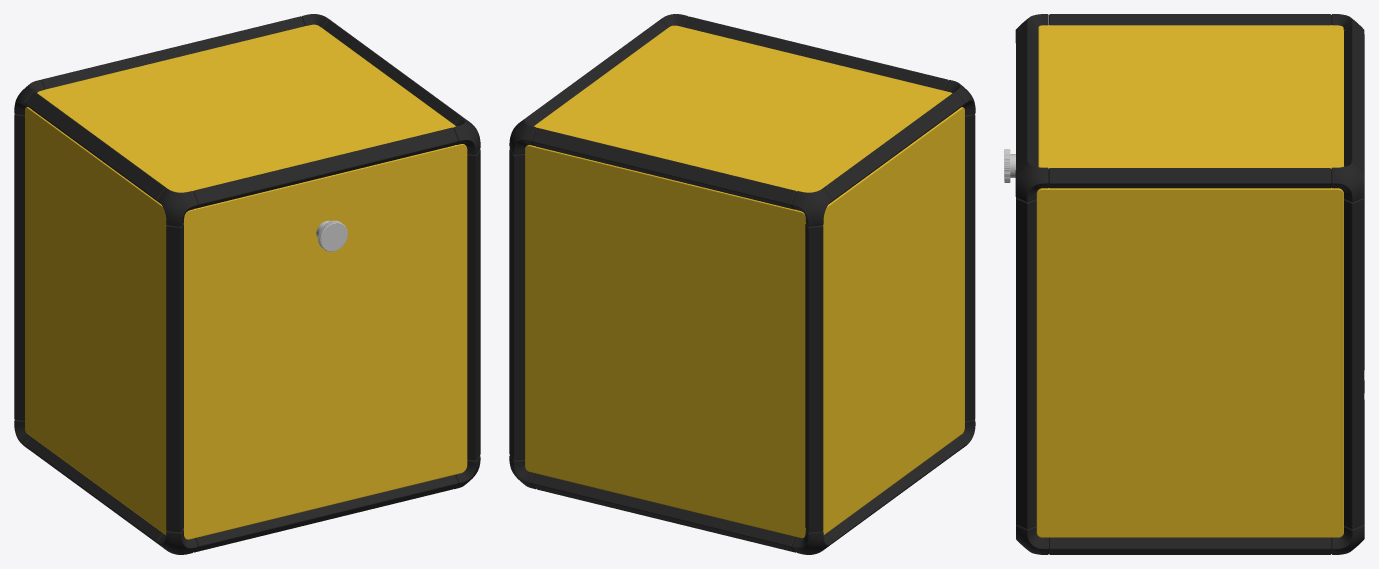
3 views of the same model, side by side, from view 1: azimuth 30°, elevation 25°; view 2: azimuth 150°, elevation 25°; view 3: azimuth 270°, elevation 25° (orthographic). The views are drawn at different scales.
Visible parts, largest first — view 1: 374x329x420; view 2: 374x329x420; view 3: 374x329x420.
Boxes of the visible parts, <box> form: 374x329x420: <box>14,14,480,554</box>; 374x329x420: <box>509,14,975,554</box>; 374x329x420: <box>1004,14,1364,554</box>.
Size of the model in its own units: 0.4517 by 0.4976 by 0.4196.
